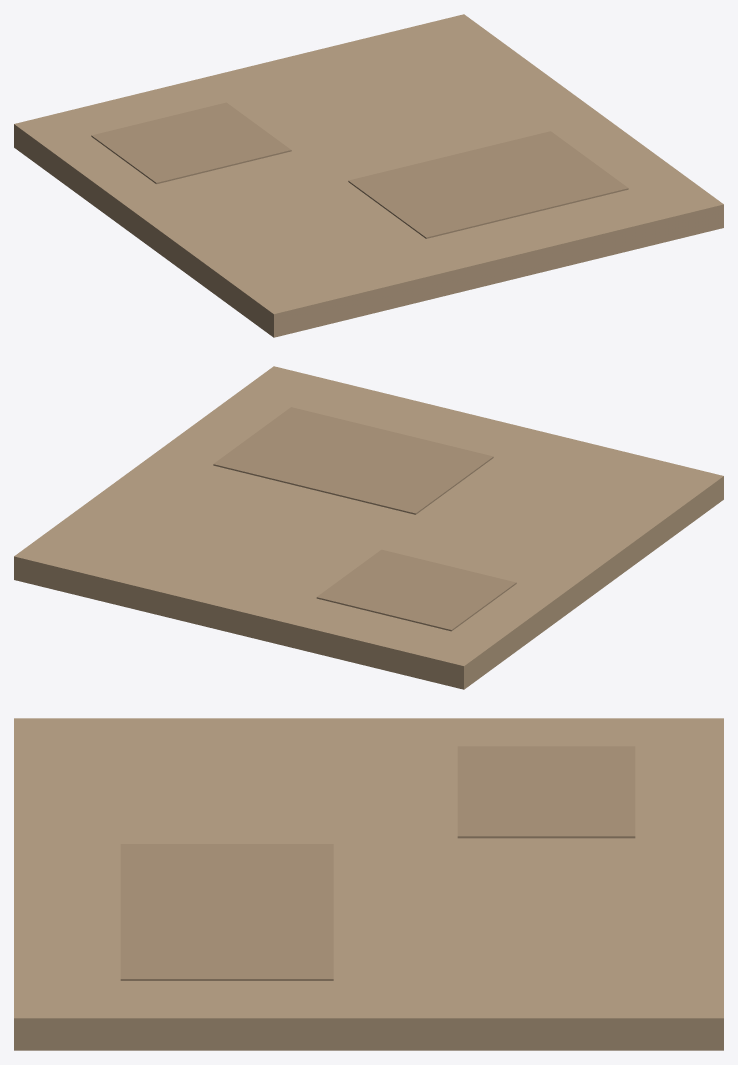
The model's file is ground_dirt.glb.
3 views of the same model, one above another, from view 1: azimuth 30°, elevation 25°; view 2: azimuth 150°, elevation 25°; view 3: azimuth 270°, elevation 25° (orthographic). The views are drawn at different scales.
Visible parts, largest first — view 1: ground_dirt; view 2: ground_dirt; view 3: ground_dirt.
Part boxes in pixels (x1,y1,x2,y2): ground_dirt: (14,14,723,337); ground_dirt: (14,366,723,689); ground_dirt: (14,718,723,1050).
Size of the model in its own units: 1 by 0.053 by 1.
